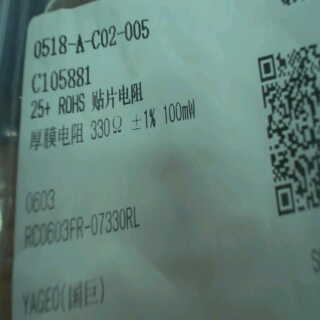330R: (86, 115, 126, 144)
